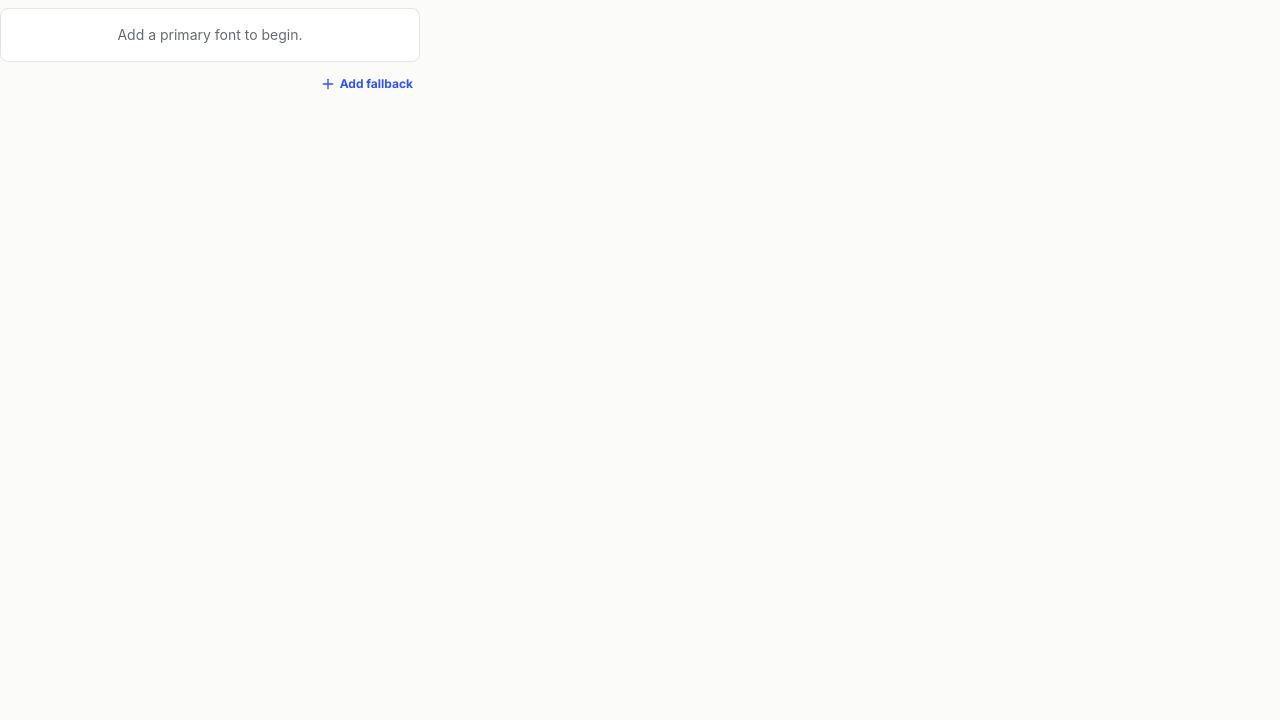
uses the highlighted search result on Enter instead of saving the query
The width and height of the screenshot is (1280, 720).
Later steps or results of the test are not shown.
Click the button "Add fallback" at (366, 84), box [313,70,420,98]
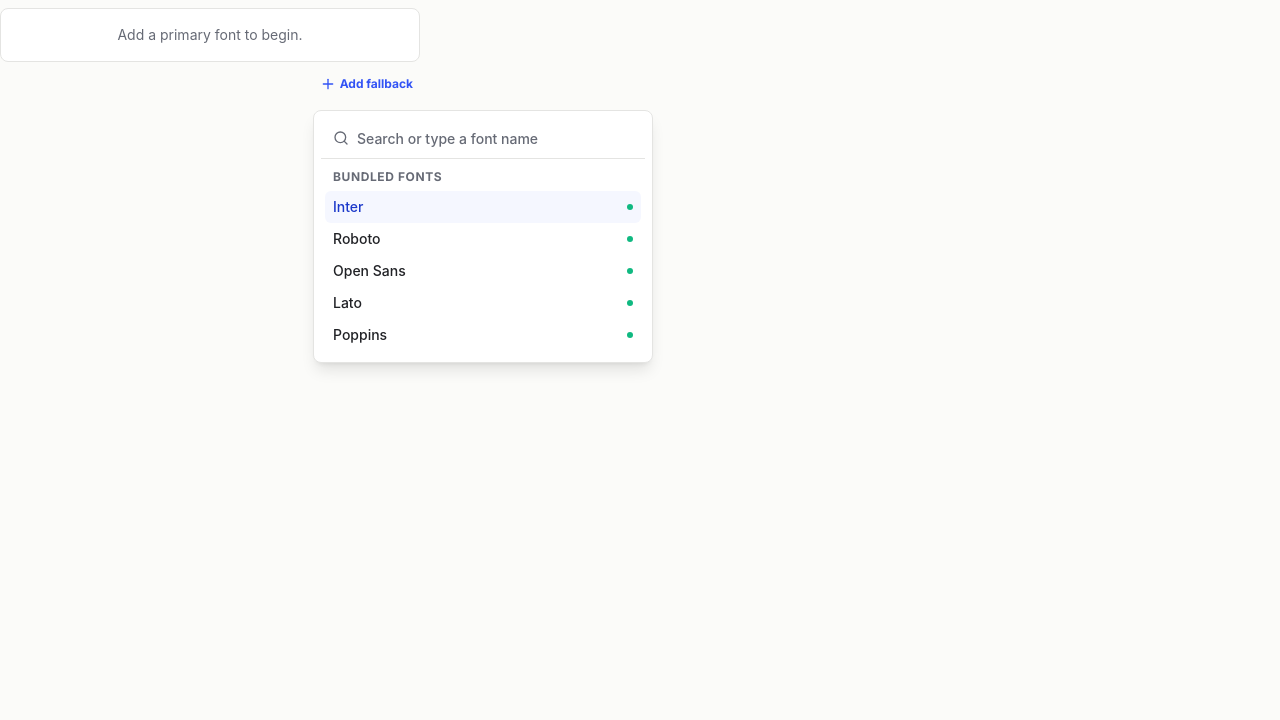
Type "Rob" into the dropdown at (495, 138), box [357,118,633,158]
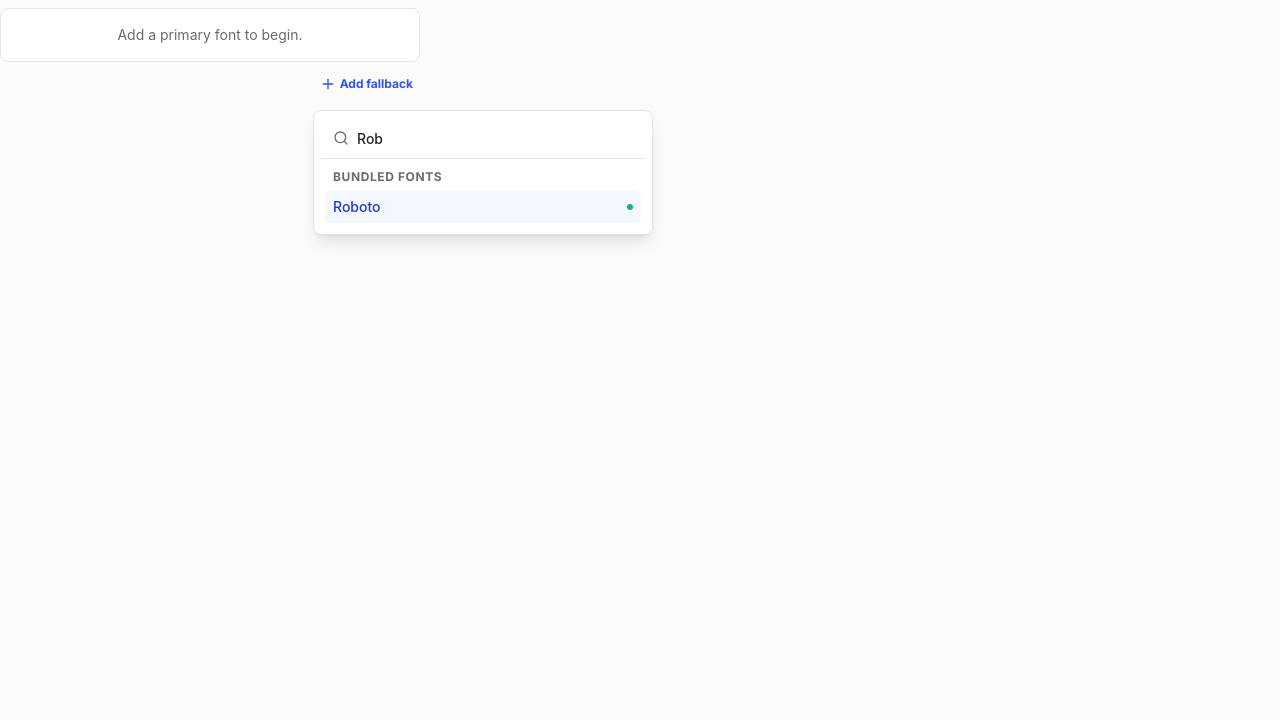
Result: the option "Roboto" is shown at [325,191,641,223]
